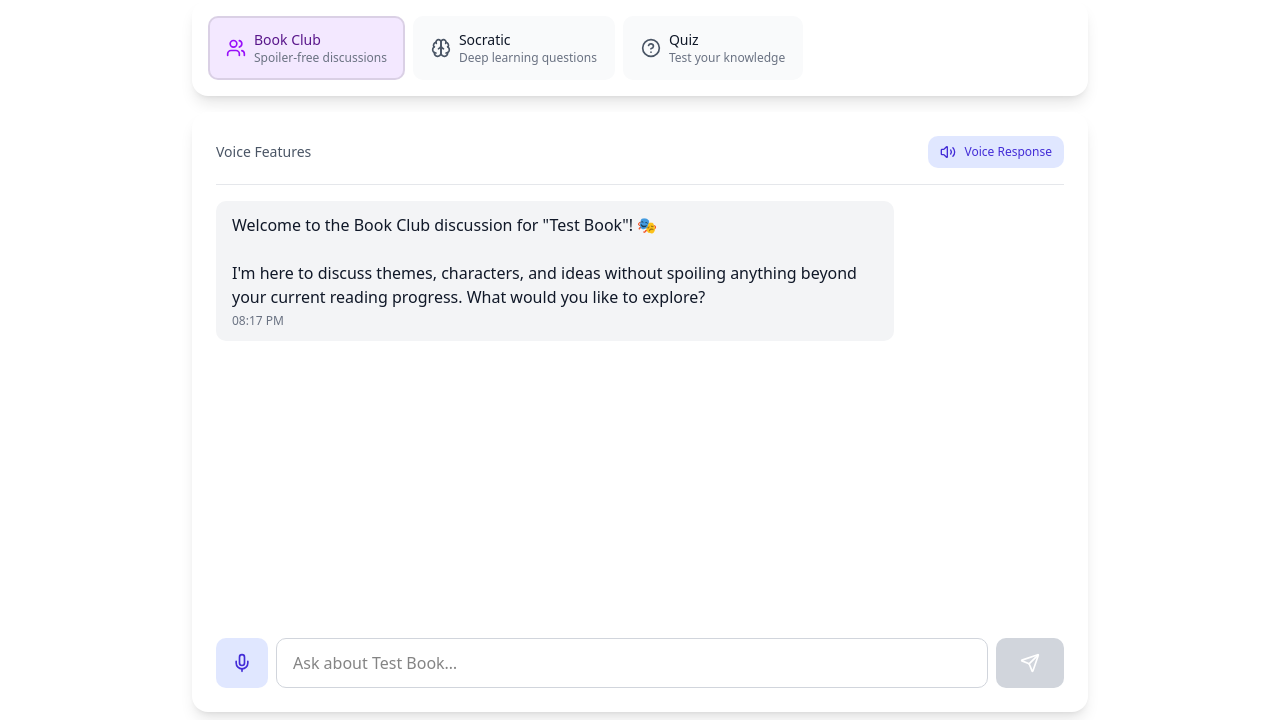
VoiceChatBot (AI companion page) › switching to Quiz mode resets the conversation with a quiz greeting
The image size is (1280, 720).
Click the text "Quiz" at (684, 40), box [669, 30, 699, 49]
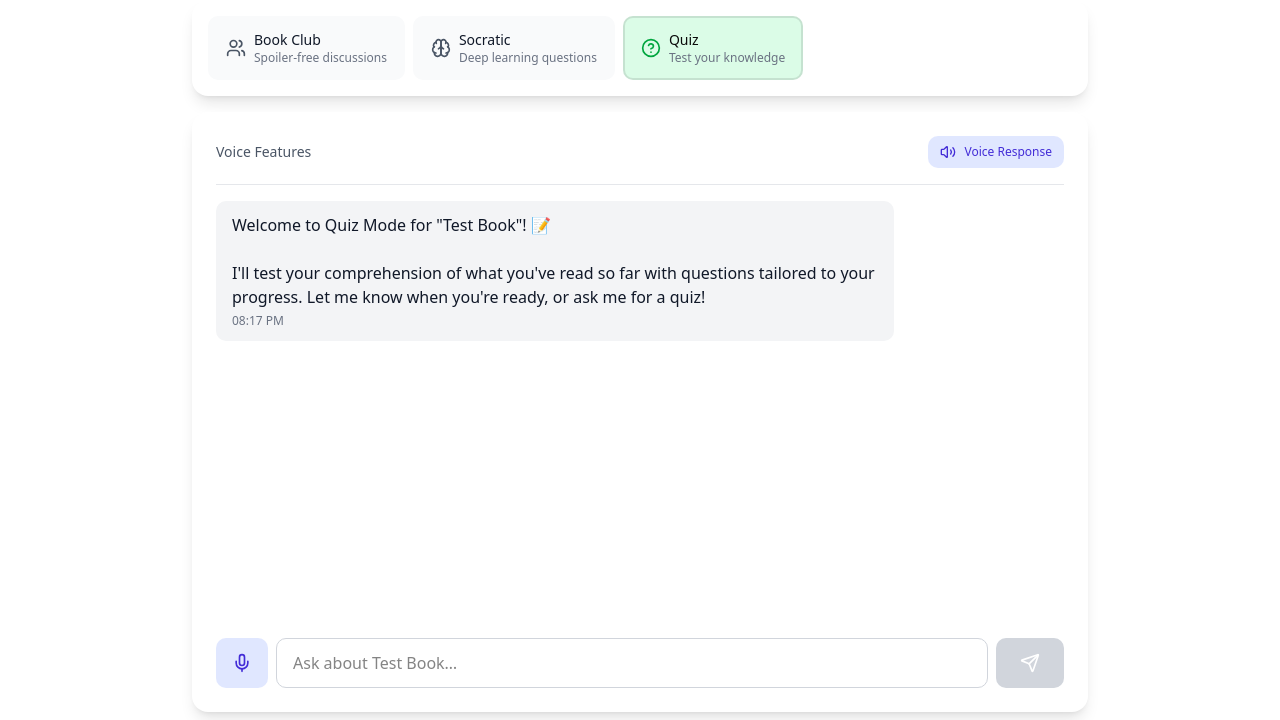
Now the text "Welcome to Quiz Mode" is shown, box [232, 214, 879, 308]
Type "go" into the field with placeholder "Ask about Test Book…" at (632, 663), box [276, 638, 988, 688]
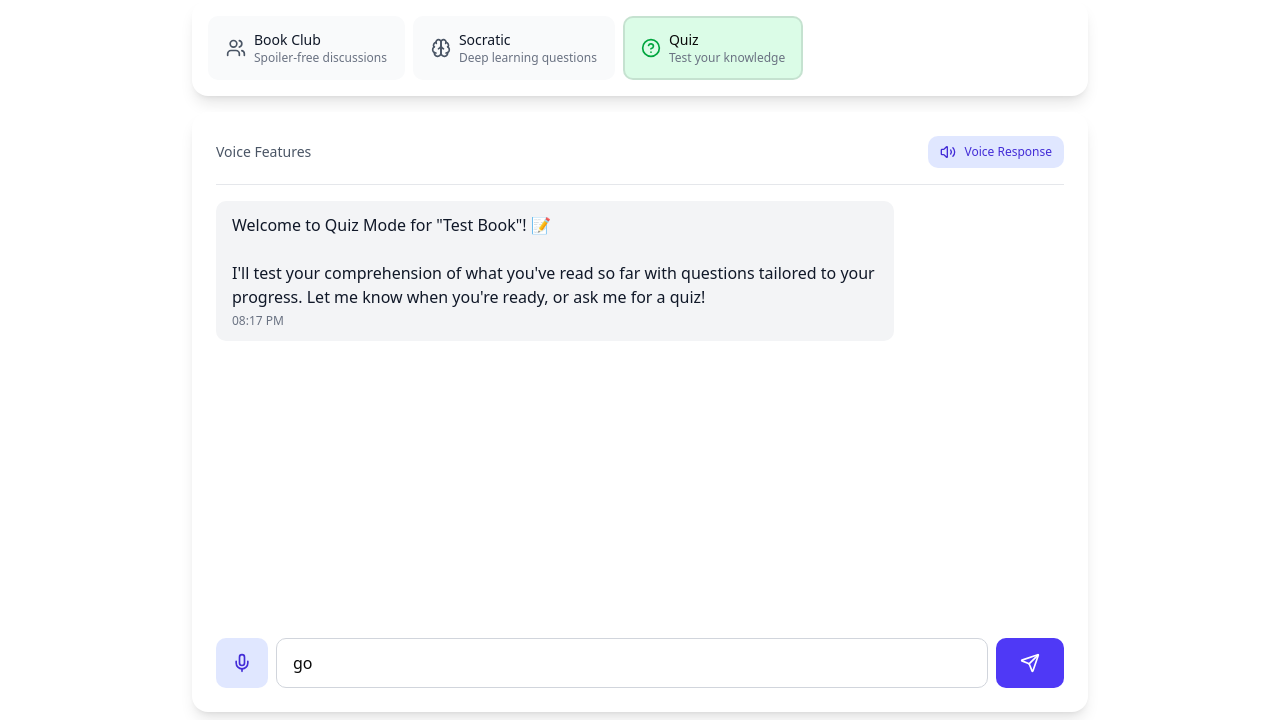
Press Enter in the field with placeholder "Ask about Test Book…", box [276, 638, 988, 688]
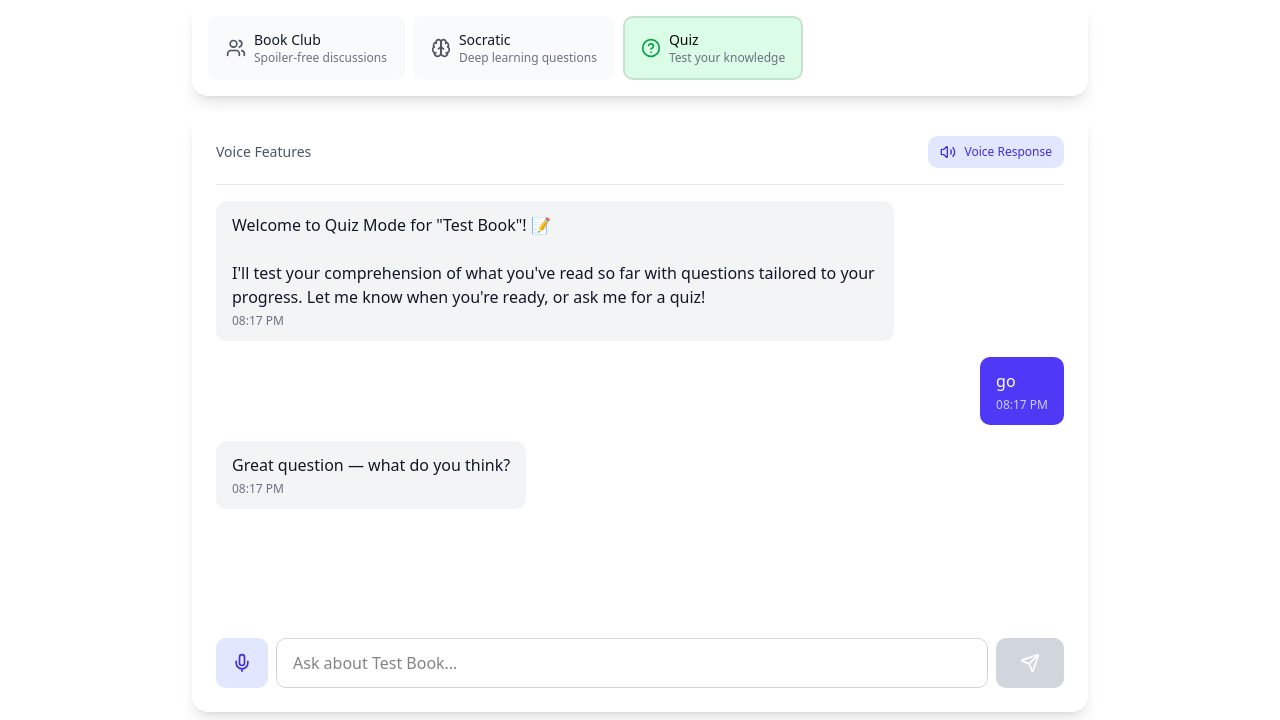
Now the text "Great question — what do you think?" is shown, box [232, 453, 510, 477]
